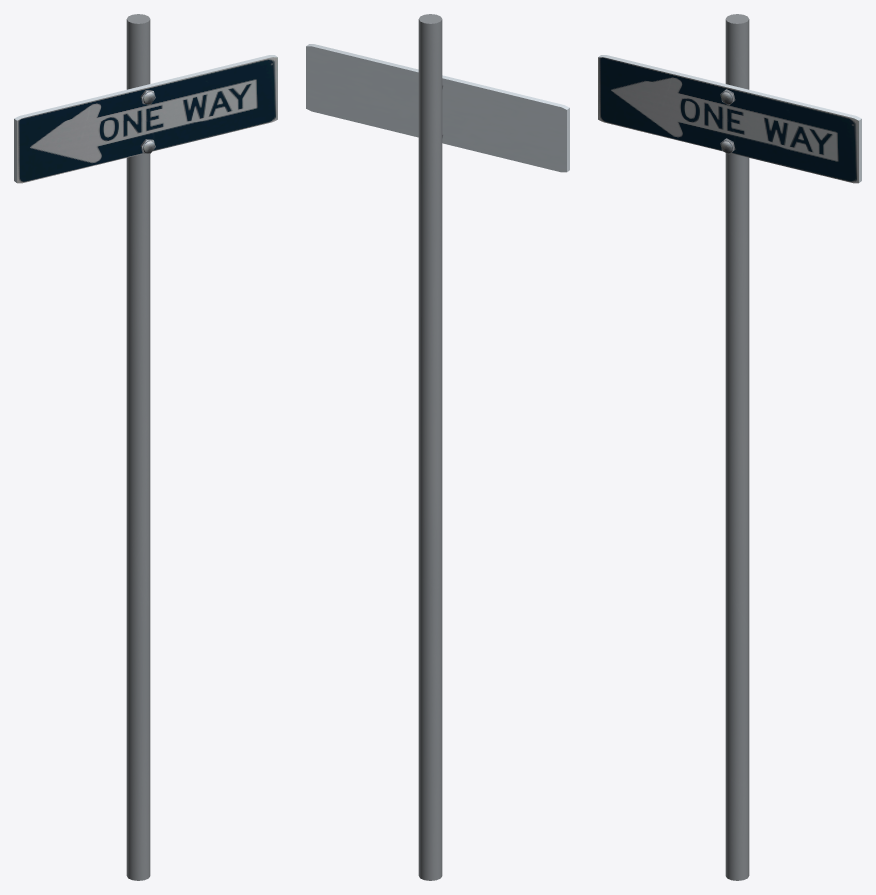
Rendered from StreetSigns_21.fbx.
The picture shows the model from 3 angles, left to right: view 1: azimuth 30°, elevation 25°; view 2: azimuth 150°, elevation 25°; view 3: azimuth 330°, elevation 25°; orthographic projection.
Parts seen in each view (by area): view 1: StreetSigns_21; view 2: StreetSigns_21; view 3: StreetSigns_21.
Part boxes in pixels (left/top/right/bottom): StreetSigns_21: left=14, top=14, right=277, bottom=880; StreetSigns_21: left=306, top=14, right=569, bottom=880; StreetSigns_21: left=598, top=14, right=861, bottom=880.
Bounding box in the file's own units: 1.27 × 4 × 0.1433.
